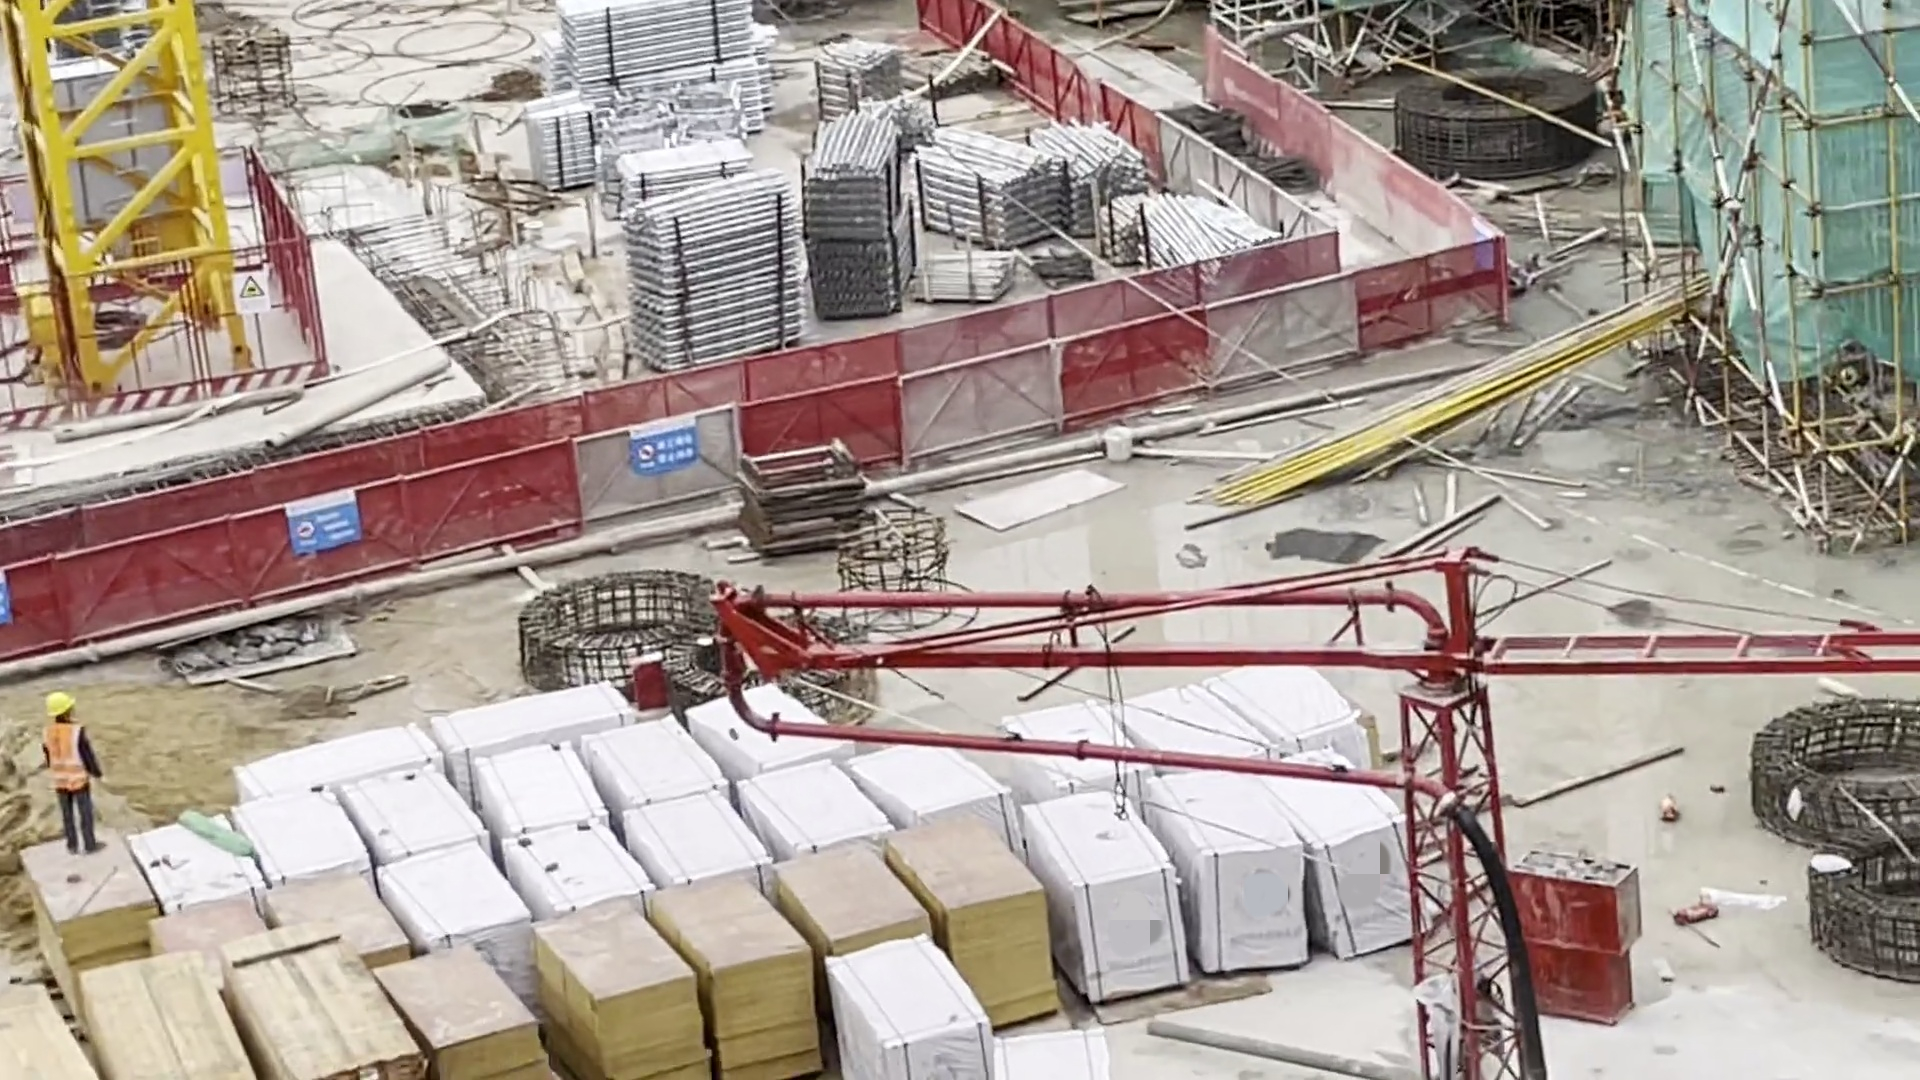board: (896, 798, 1049, 1008), (528, 910, 705, 1080), (673, 872, 806, 1080), (379, 938, 561, 1080), (786, 845, 929, 977), (94, 961, 214, 1080), (6, 974, 88, 1080)
fence: (1000, 15, 1517, 310), (25, 432, 573, 623), (945, 223, 1493, 399), (592, 343, 1120, 523), (29, 153, 368, 408)
helmet: (43, 689, 79, 721)
person: (41, 682, 120, 861)
scaffold: (628, 192, 832, 381), (542, 2, 787, 143), (804, 138, 917, 315), (925, 123, 1075, 250), (1042, 108, 1163, 230), (806, 43, 911, 131), (535, 94, 621, 200), (1135, 204, 1286, 264), (618, 146, 765, 194), (925, 242, 1009, 300), (1104, 189, 1154, 268)
slogan: (620, 411, 723, 498), (279, 485, 373, 566)
vest: (43, 722, 95, 797)
